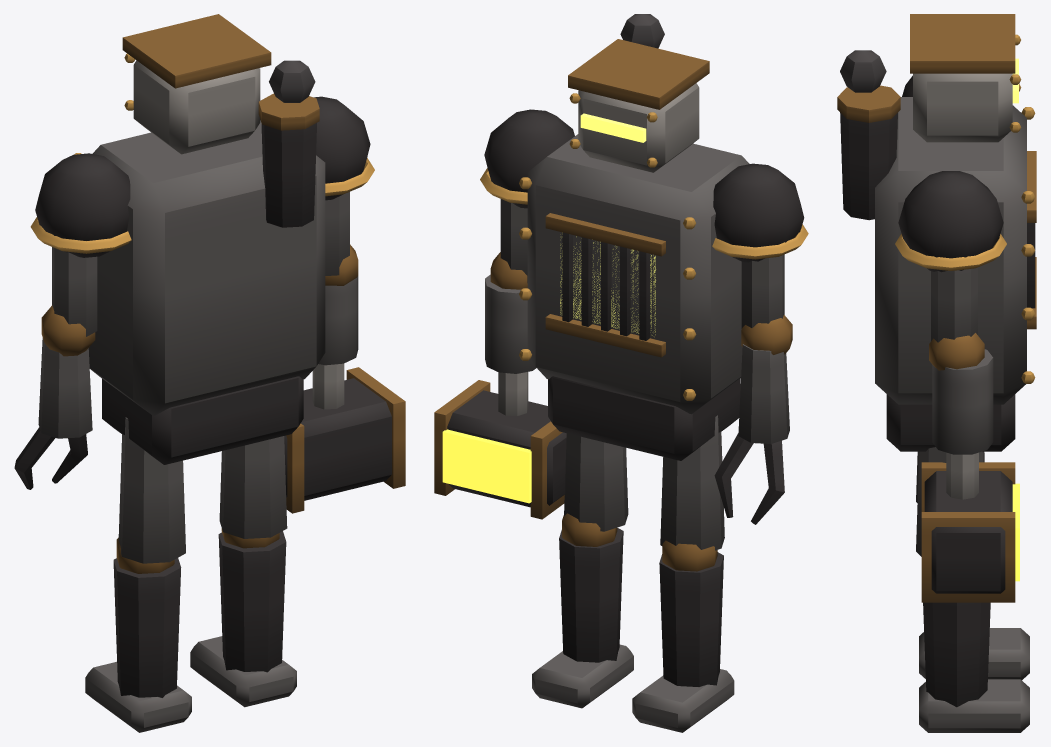
Rendered from mob_forge_construct.fbx.
The picture shows the model from 3 angles, left to right: view 1: azimuth 30°, elevation 25°; view 2: azimuth 150°, elevation 25°; view 3: azimuth 270°, elevation 25°; orthographic projection. The views are drawn at different scales.
Parts seen in each view (by area): view 1: Body, Head, ExtraPiston, KneeL, KneeR, ArmL, ForearmL, LegL, LegR, ArmR, ForearmR; view 2: Body, Head, KneeL, KneeR, ArmL, ExtraPiston, ForearmL, ArmR, LegL, LegR, ExtraPiston_Glow_Ember, ForearmR (+2 smaller); view 3: Body, ExtraPiston, Head, ArmR, KneeR, ForearmR, KneeL, LegR, ExtraPiston_Glow_Ember.
Part boxes in pixels (x1,y1,x2,y2): Body: (74, 60, 325, 464); Head: (122, 14, 271, 154); ExtraPiston: (284, 363, 405, 513); KneeL: (85, 537, 191, 732); KneeR: (190, 528, 296, 707); ArmL: (30, 153, 131, 336); ForearmL: (14, 305, 95, 489); LegL: (118, 417, 185, 563); LegR: (219, 436, 287, 538); ArmR: (314, 96, 374, 275); ForearmR: (318, 244, 358, 365); Body: (519, 14, 749, 460); Head: (568, 39, 709, 172); KneeL: (632, 540, 734, 732); KneeR: (532, 513, 633, 708); ArmL: (712, 163, 808, 328); ExtraPiston: (434, 372, 566, 519); ForearmL: (714, 315, 792, 524); ArmR: (480, 109, 574, 282); LegL: (660, 415, 724, 550); LegR: (564, 433, 628, 531); ExtraPiston_Glow_Ember: (442, 429, 531, 503); ForearmR: (485, 252, 536, 373); Body: (837, 50, 1036, 451); ExtraPiston: (921, 452, 1015, 602); Head: (910, 14, 1021, 142); ArmR: (895, 171, 1006, 342); KneeR: (919, 602, 1029, 732); ForearmR: (929, 333, 993, 454); KneeL: (919, 628, 1029, 679); LegR: (916, 447, 982, 556); ExtraPiston_Glow_Ember: (1012, 483, 1019, 581).
Bounding box in the file's own units: 356 × 630 × 170.
Materials: 3 (1 with a texture image).
